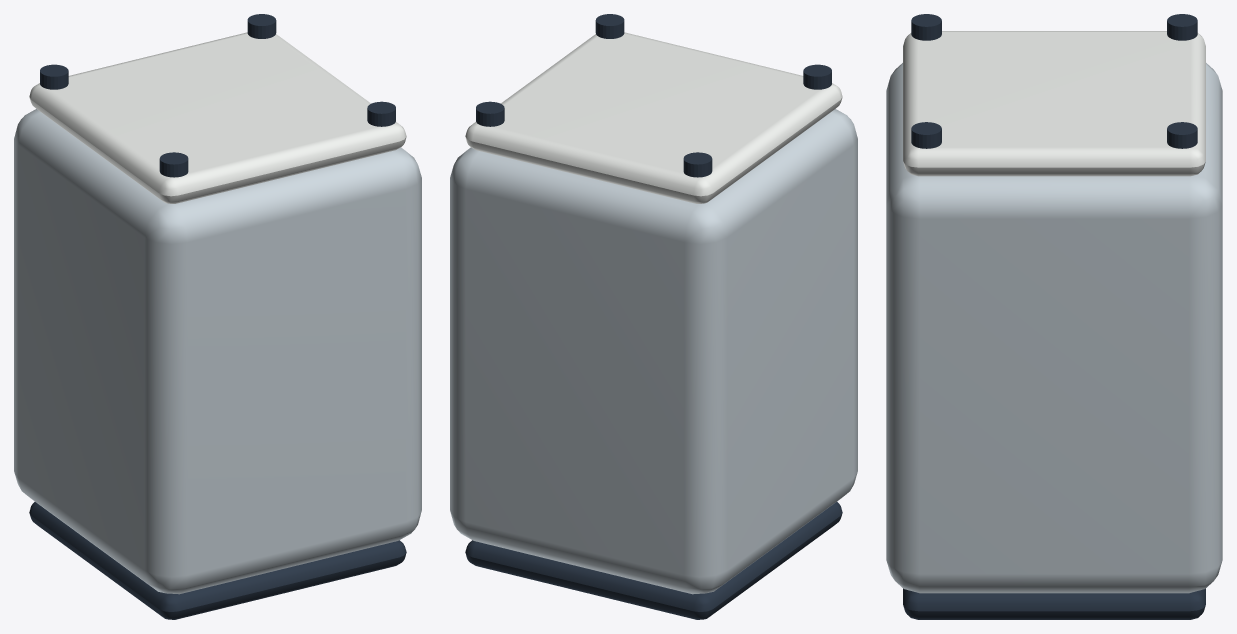
Rendered from cubesat_platform.glb.
The picture shows the model from 3 angles, left to right: view 1: azimuth 30°, elevation 25°; view 2: azimuth 150°, elevation 25°; view 3: azimuth 270°, elevation 25°; orthographic projection. The views are drawn at different scales.
Visible parts, largest first — view 1: Main_Platform_Body, Top_Structural_Plate, Bottom_Structural_Plate, Structural_Bolt, Structural_Bolt_003, Structural_Bolt_001, Structural_Bolt_002; view 2: Main_Platform_Body, Top_Structural_Plate, Bottom_Structural_Plate, Structural_Bolt_001, Structural_Bolt_002, Structural_Bolt, Structural_Bolt_003; view 3: Main_Platform_Body, Top_Structural_Plate, Bottom_Structural_Plate, Structural_Bolt, Structural_Bolt_001, Structural_Bolt_002, Structural_Bolt_003.
Boxes of the visible parts, box(x1,y1,x2,y2) form: Main_Platform_Body: box(14, 109, 421, 594); Top_Structural_Plate: box(29, 32, 406, 203); Bottom_Structural_Plate: box(29, 502, 406, 619); Structural_Bolt: box(159, 152, 188, 177); Structural_Bolt_003: box(247, 14, 276, 38); Structural_Bolt_001: box(40, 64, 68, 89); Structural_Bolt_002: box(367, 101, 395, 126); Main_Platform_Body: box(450, 109, 857, 594); Top_Structural_Plate: box(465, 32, 842, 203); Bottom_Structural_Plate: box(465, 502, 842, 619); Structural_Bolt_001: box(683, 152, 712, 177); Structural_Bolt_002: box(595, 14, 624, 38); Structural_Bolt: box(803, 64, 831, 89); Structural_Bolt_003: box(476, 101, 504, 126); Main_Platform_Body: box(886, 63, 1222, 593); Top_Structural_Plate: box(903, 31, 1205, 176); Bottom_Structural_Plate: box(903, 588, 1205, 619); Structural_Bolt: box(911, 14, 941, 40); Structural_Bolt_001: box(1167, 14, 1197, 40); Structural_Bolt_002: box(911, 122, 941, 148); Structural_Bolt_003: box(1167, 122, 1197, 148).
Bounding box in the file's own units: 0.55 × 0.8775 × 0.55.
